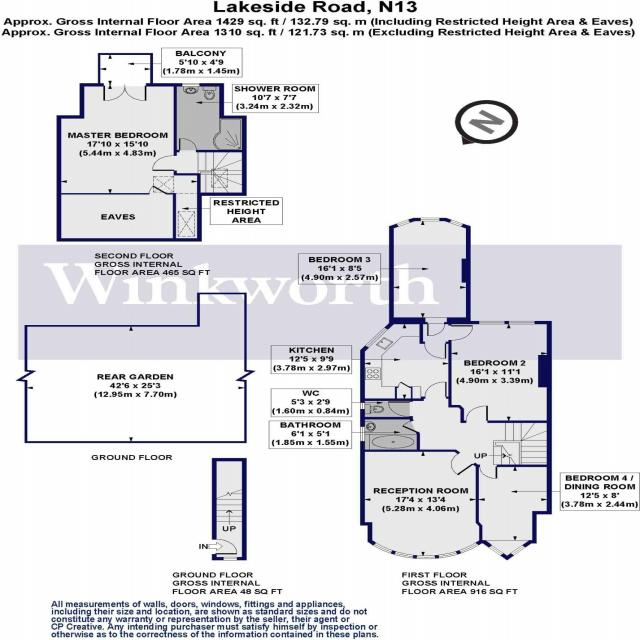DOOR: (451, 452, 476, 476), (424, 317, 447, 336), (448, 325, 474, 341), (424, 381, 447, 399), (152, 155, 177, 171), (424, 342, 447, 359), (465, 406, 488, 423), (479, 464, 498, 479), (179, 138, 197, 152), (181, 83, 200, 87)
DOUBLE DOOR: (98, 82, 153, 104)
ROOM: (57, 83, 202, 241), (360, 449, 483, 559), (448, 321, 552, 423), (388, 218, 471, 337), (360, 318, 452, 401), (475, 464, 552, 560)
WINDOW: (364, 327, 389, 348), (371, 542, 394, 554), (457, 542, 479, 554), (488, 544, 505, 556), (509, 545, 526, 556), (393, 551, 415, 559), (437, 551, 459, 559), (394, 219, 411, 227), (448, 219, 464, 227), (507, 321, 535, 325), (478, 321, 505, 325), (414, 555, 436, 559), (419, 218, 440, 222), (360, 426, 365, 442), (360, 402, 365, 410)
